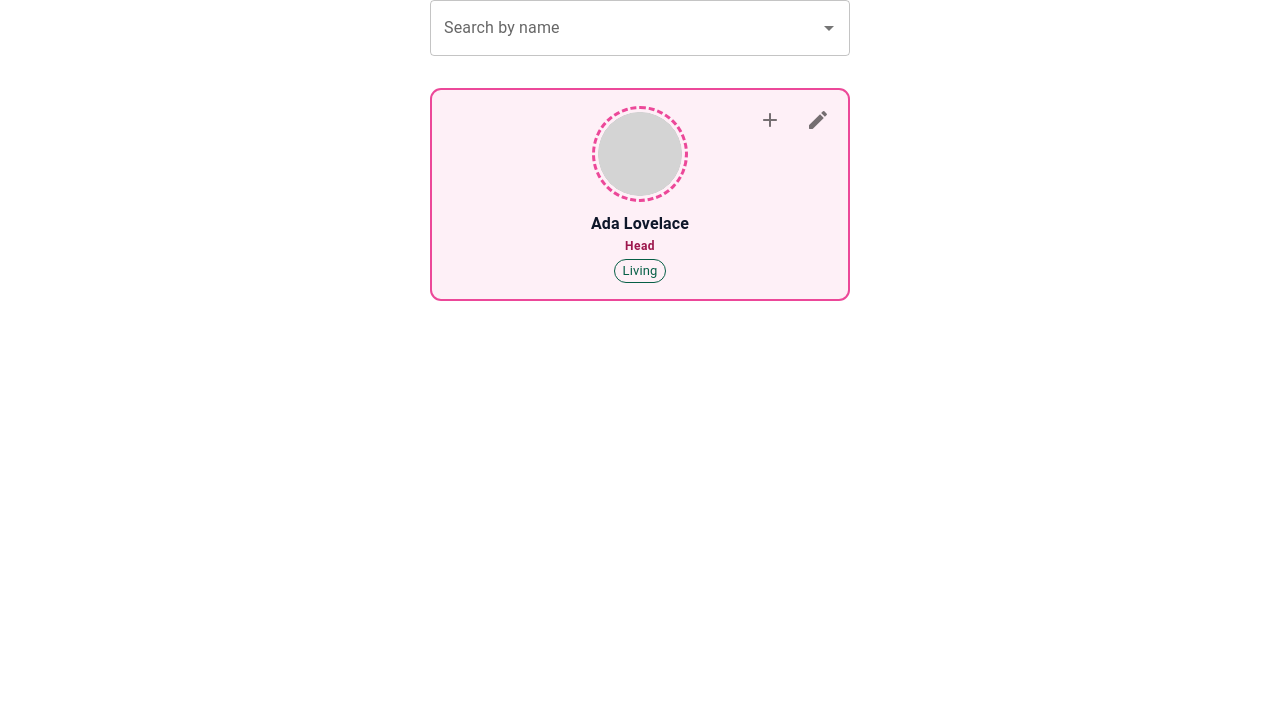
Test case: DetailPage › clicking Edit on the head fetches full editable fields BEFORE the dialog opens
Expected: the element with test id "person-card-1" is shown, top-left (430, 88), bottom-right (850, 301)
Click the button named "Edit Ada Lovelace" at (818, 120), box top-left (796, 98), bottom-right (840, 142)
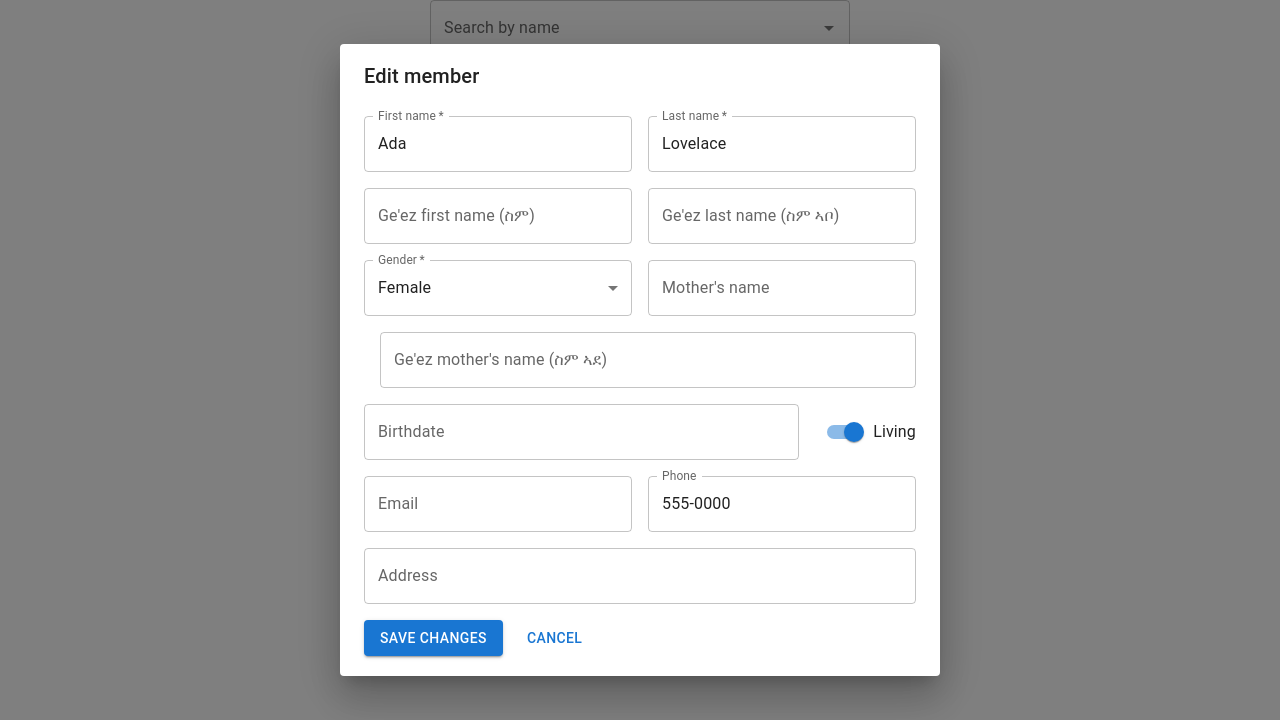
Now the heading "Edit member" is shown, box top-left (364, 64), bottom-right (479, 88)
